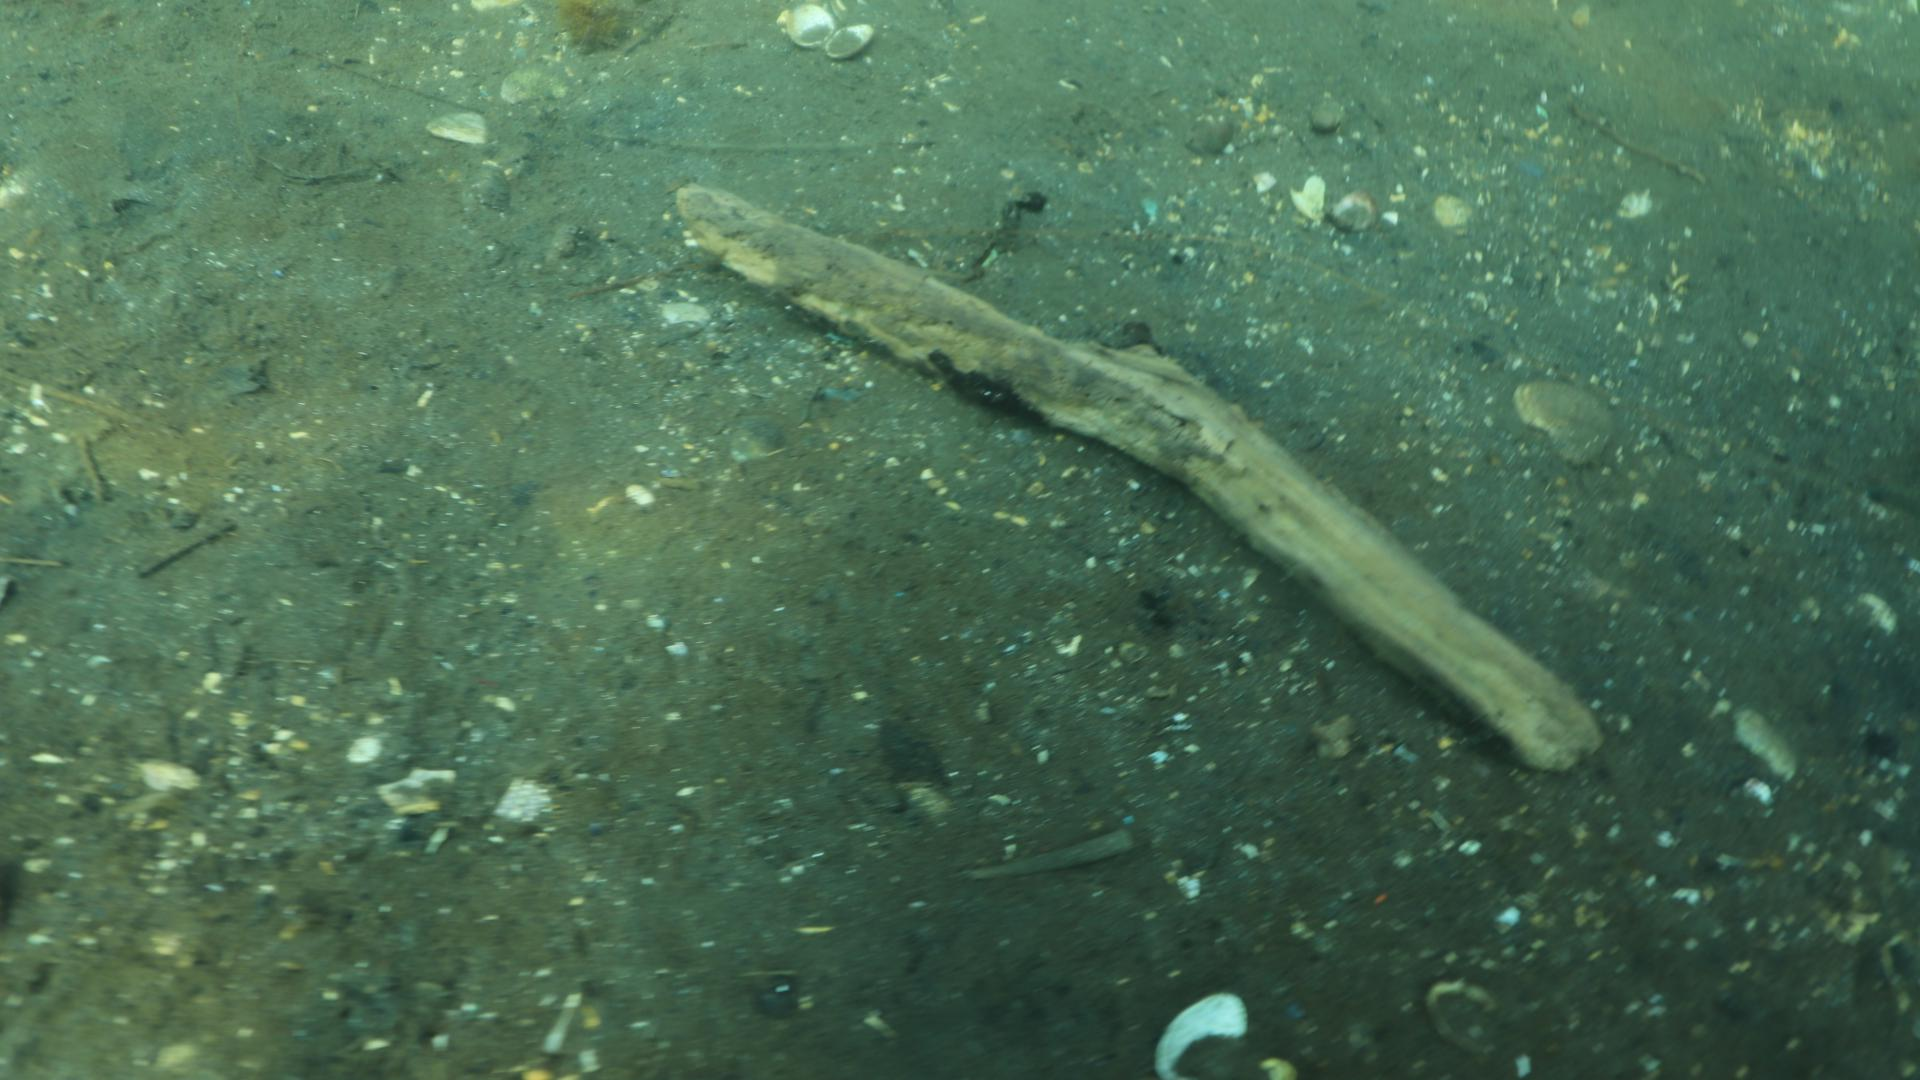wood: (671, 182, 1604, 771)
